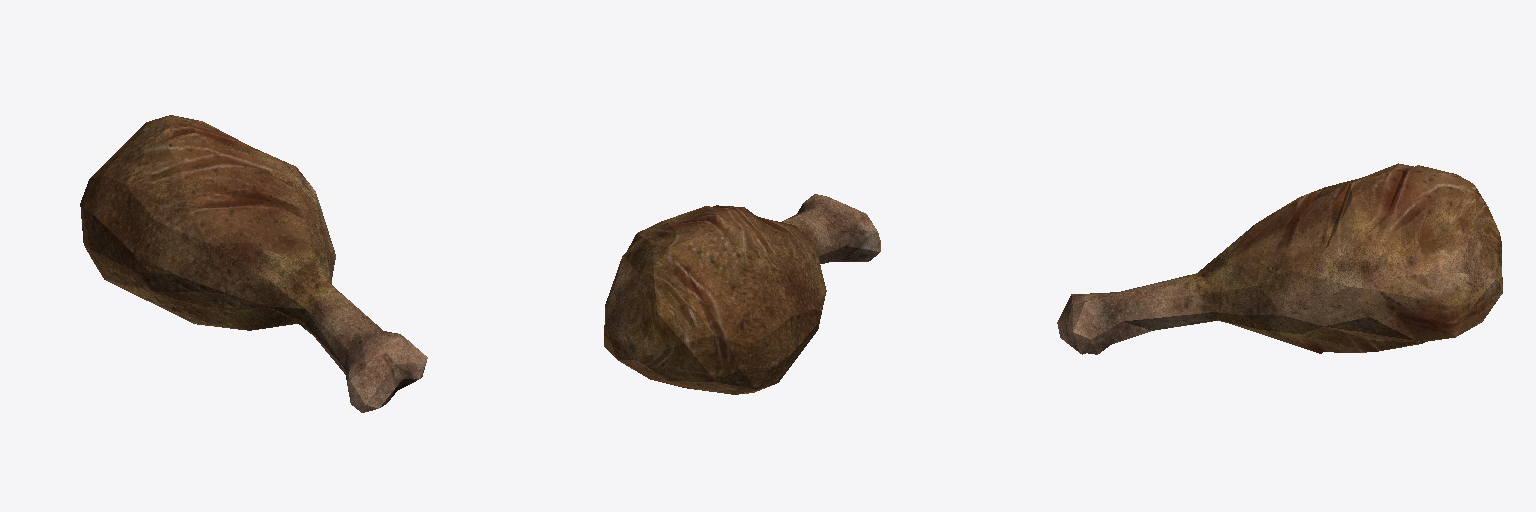
The picture shows the model from 3 angles: view 1: azimuth 30°, elevation 25°; view 2: azimuth 150°, elevation 25°; view 3: azimuth 270°, elevation 25°; orthographic projection.
Parts seen in each view (by area): view 1: Object_chicken_diffuse.jpg; view 2: Object_chicken_diffuse.jpg; view 3: Object_chicken_diffuse.jpg.
Boxes of the visible parts, <box> form: Object_chicken_diffuse.jpg: <box>80,115,427,412</box>; Object_chicken_diffuse.jpg: <box>604,194,880,394</box>; Object_chicken_diffuse.jpg: <box>1057,163,1502,354</box>.
Bounding box in the file's own units: 1.23 × 1.03 × 2.5.
2 materials, 1 textured.